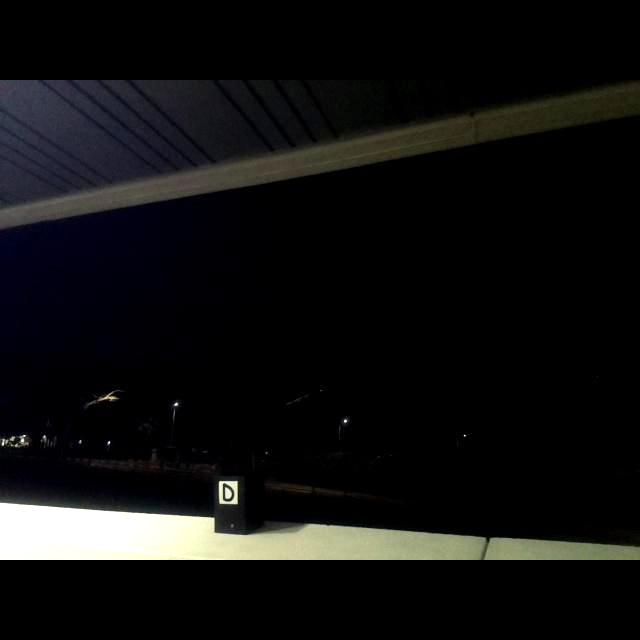D: (222, 482, 235, 503)
